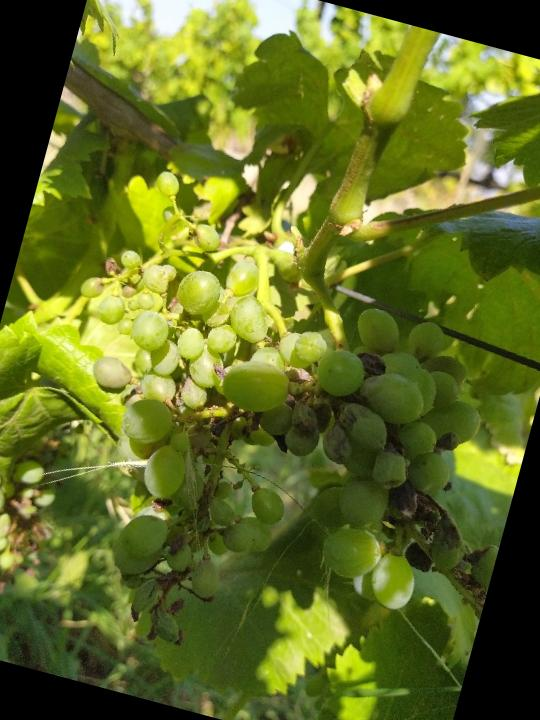grape: (0, 156, 529, 720)
